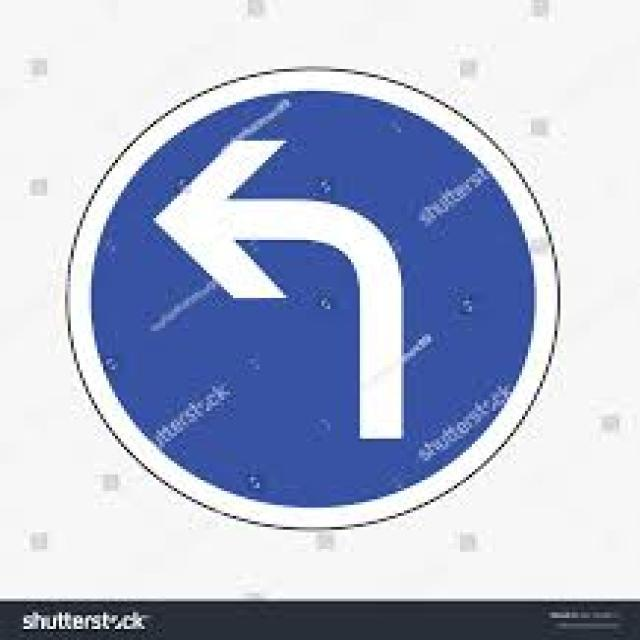compulsary turn left ahead: (64, 67, 562, 536)
